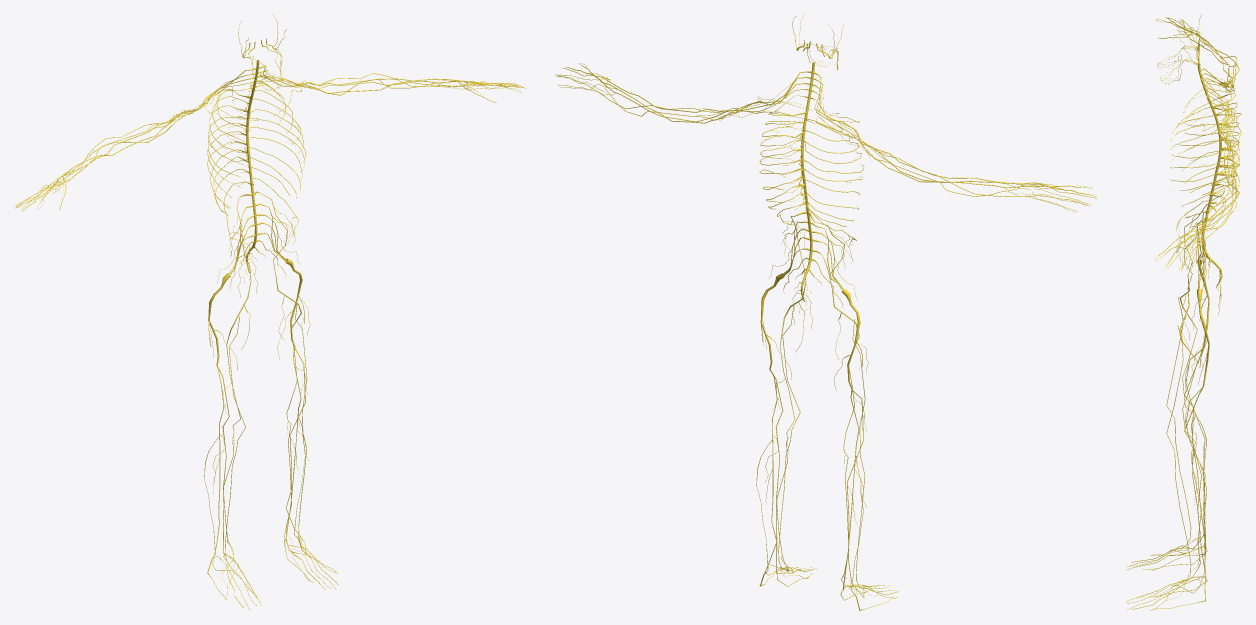
File: 男性_神经系统_神经.fbx
The picture shows the model from 3 angles, left to right: view 1: azimuth 30°, elevation 25°; view 2: azimuth 150°, elevation 25°; view 3: azimuth 270°, elevation 25°; orthographic projection. The views are drawn at different scales.
Parts seen in each view (by area): view 1: 男性_神经系统_神经; view 2: 男性_神经系统_神经; view 3: 男性_神经系统_神经.
Part boxes in pixels (x1,y1,x2,y2): 男性_神经系统_神经: (15,14,526,610); 男性_神经系统_神经: (555,14,1096,610); 男性_神经系统_神经: (1126,14,1241,610).
Size of the model in its own units: 171 by 179 by 33.12.
